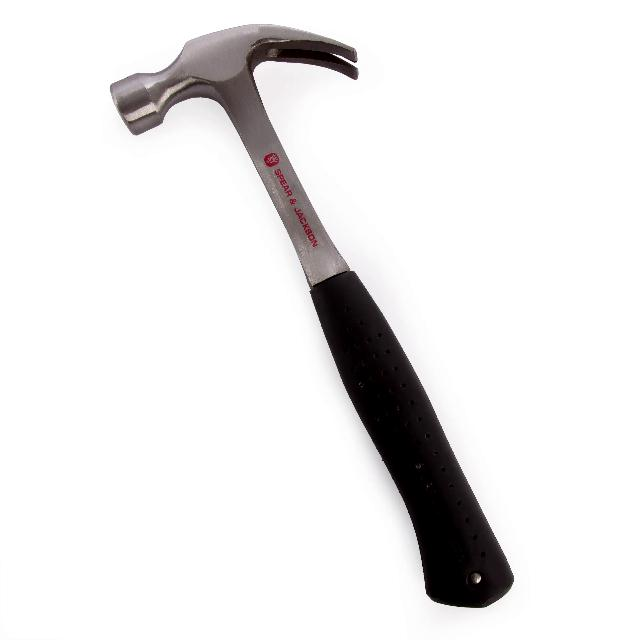hammer: (99, 18, 521, 616)
